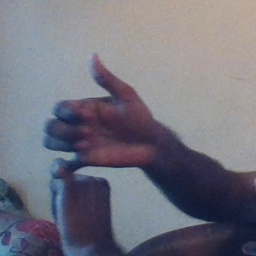S: (38, 42, 166, 227)
